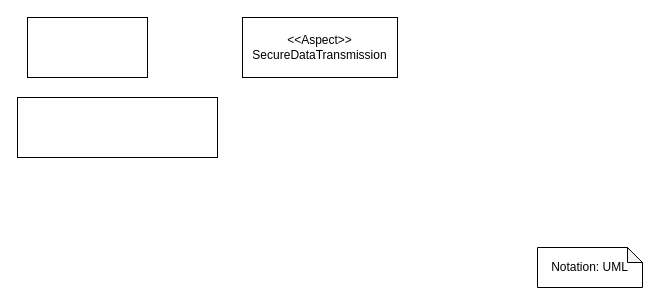
Some shapes in this 660 by 305 pixel diagram are drawn without their labels. Here are the shapes that lost their labels. From the top down, the centre of each, then its label:
At pixel 87 47: "<<Aspect>> Logging".
At pixel 117 127: "<<Aspect>> UserTrackingAndAuthentication".
